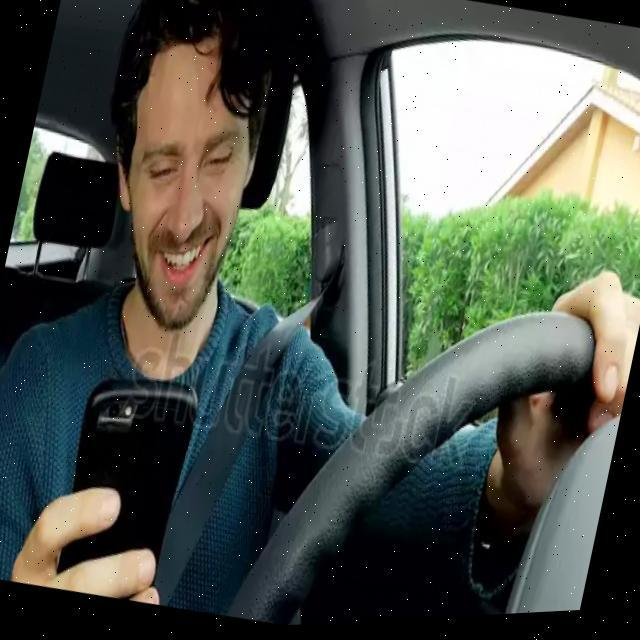PhoneCall: (48, 365, 201, 610)
